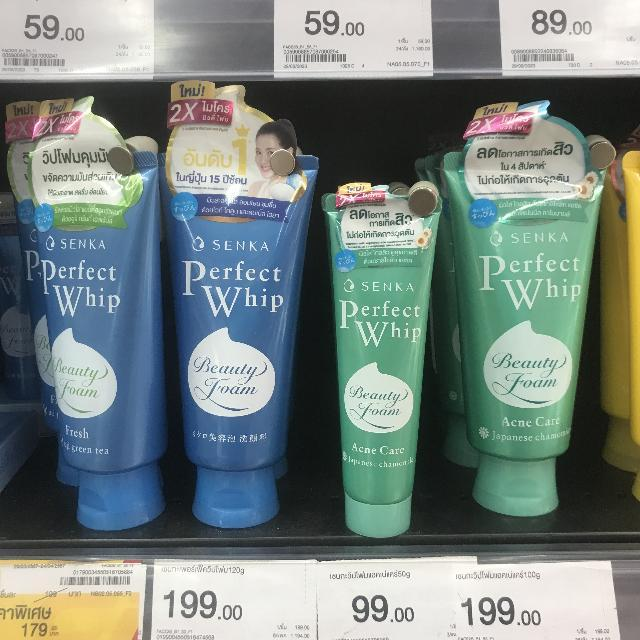Squeeze Tube: (440, 141, 618, 521), (29, 116, 177, 538), (169, 123, 304, 527), (316, 167, 442, 573)
